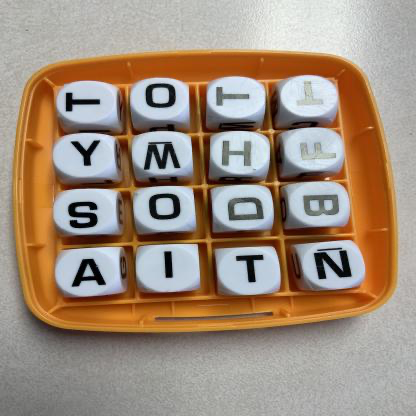a: (57, 249, 120, 298)
b: (292, 183, 351, 227)
d: (215, 187, 274, 230)
f: (286, 129, 344, 171)
h: (212, 132, 271, 175)
i: (138, 246, 200, 293)
n: (304, 243, 365, 290)
o: (135, 188, 195, 232), (132, 79, 189, 121)
s: (55, 190, 116, 235)
t: (220, 249, 281, 296), (58, 82, 116, 124), (282, 76, 339, 118), (208, 78, 266, 119)
w: (133, 132, 193, 176)
y: (54, 134, 114, 179)
